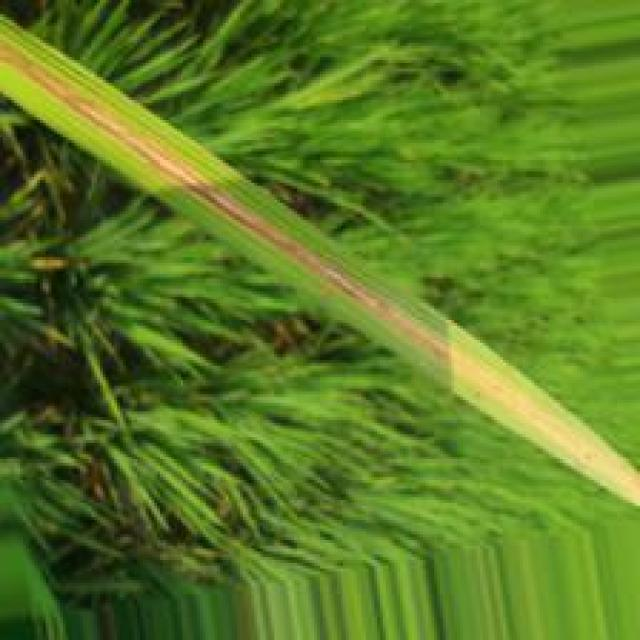Leaf_Blast: (0, 33, 493, 382)
